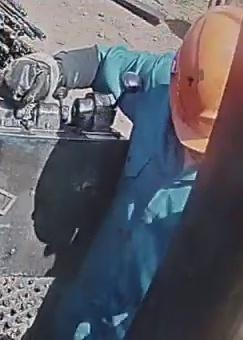gloves: (3, 51, 74, 105)
helmet: (168, 4, 242, 153)
vest: (57, 40, 199, 331)
